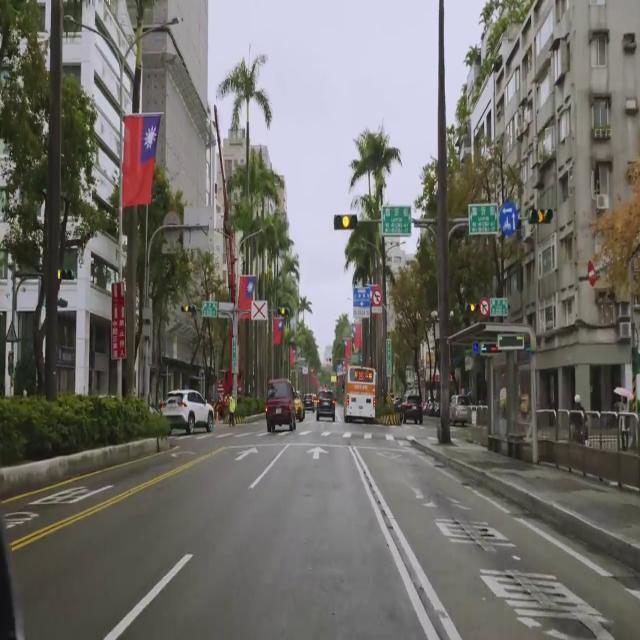yellow light: (334, 214, 357, 230), (276, 306, 290, 318)
